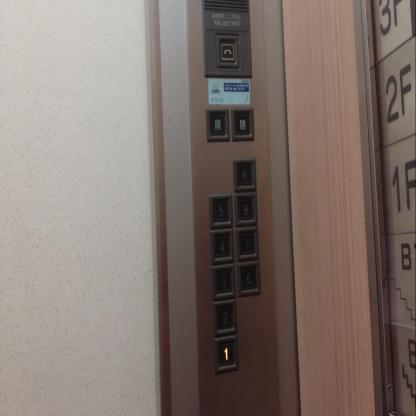1: (211, 335, 238, 375)
2: (210, 300, 238, 336)
3: (210, 264, 236, 302)
4: (209, 227, 235, 265)
5: (207, 191, 233, 230)
6: (236, 261, 261, 297)
7: (234, 226, 259, 263)
8: (233, 191, 258, 228)
R: (232, 156, 257, 192)
call: (219, 39, 236, 63)
text_close door: (230, 104, 255, 144)
text_open door: (204, 106, 230, 144)
